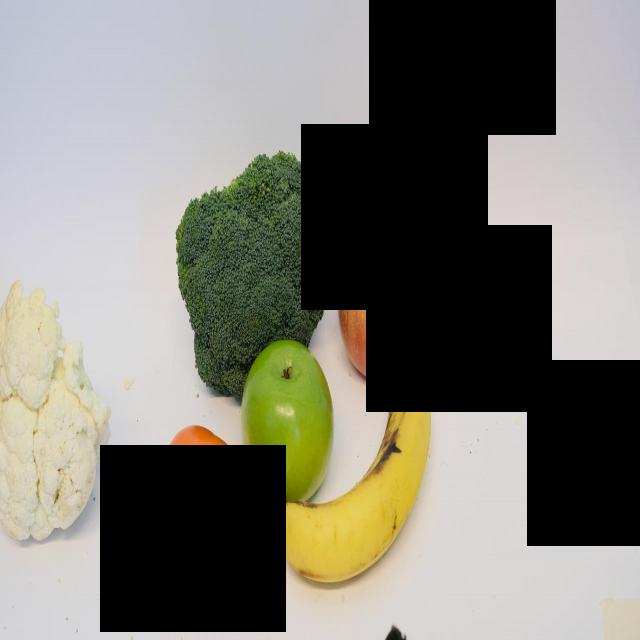apple: (240, 338, 335, 506), (338, 232, 425, 386)
banana: (270, 356, 433, 585)
broccoli: (174, 147, 334, 404)
cauliflower: (0, 275, 112, 545)
tomato: (160, 423, 243, 574)
